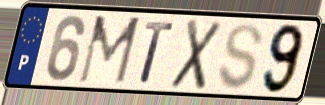6: (44, 13, 86, 83)
9: (260, 22, 307, 96)
M: (75, 14, 143, 86)
S: (216, 21, 265, 92)
T: (138, 18, 176, 85)
X: (168, 17, 225, 93)
